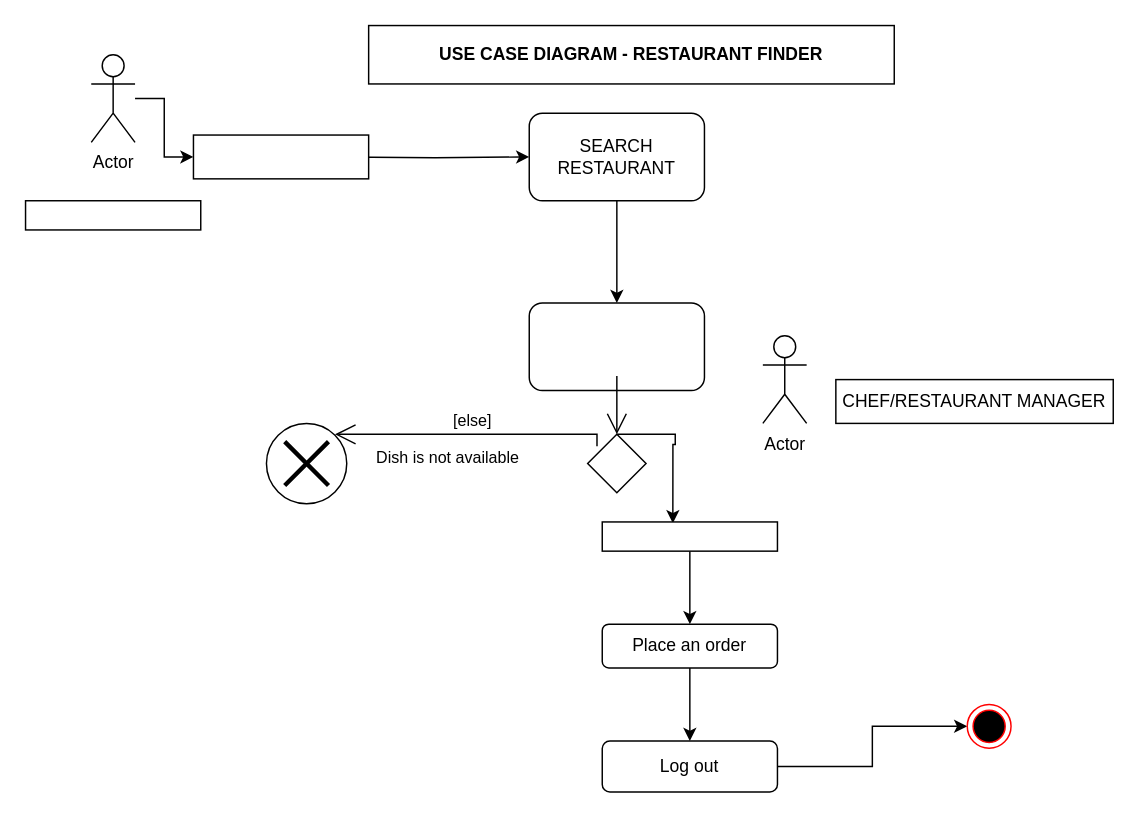
Some shapes in this 1139 by 818 pixel diagram are drawn without their labels. Each missing label, with the centre of its shape:
"DISH is available" goes at [689,535].
"DISPLAY MENU" goes at [616,346].
"LOGIN" goes at [280,156].
"USER/CUSTOMER" goes at [112,214].
